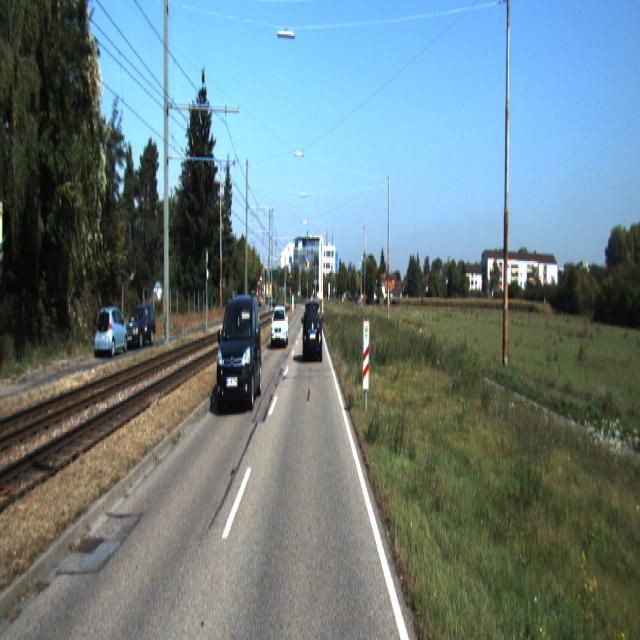Car: (216, 290, 264, 413), (95, 306, 129, 360), (124, 303, 158, 352), (303, 298, 323, 362), (271, 305, 289, 350)
